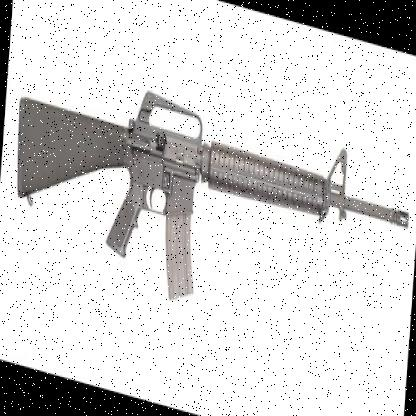rifle: (10, 53, 412, 358)
